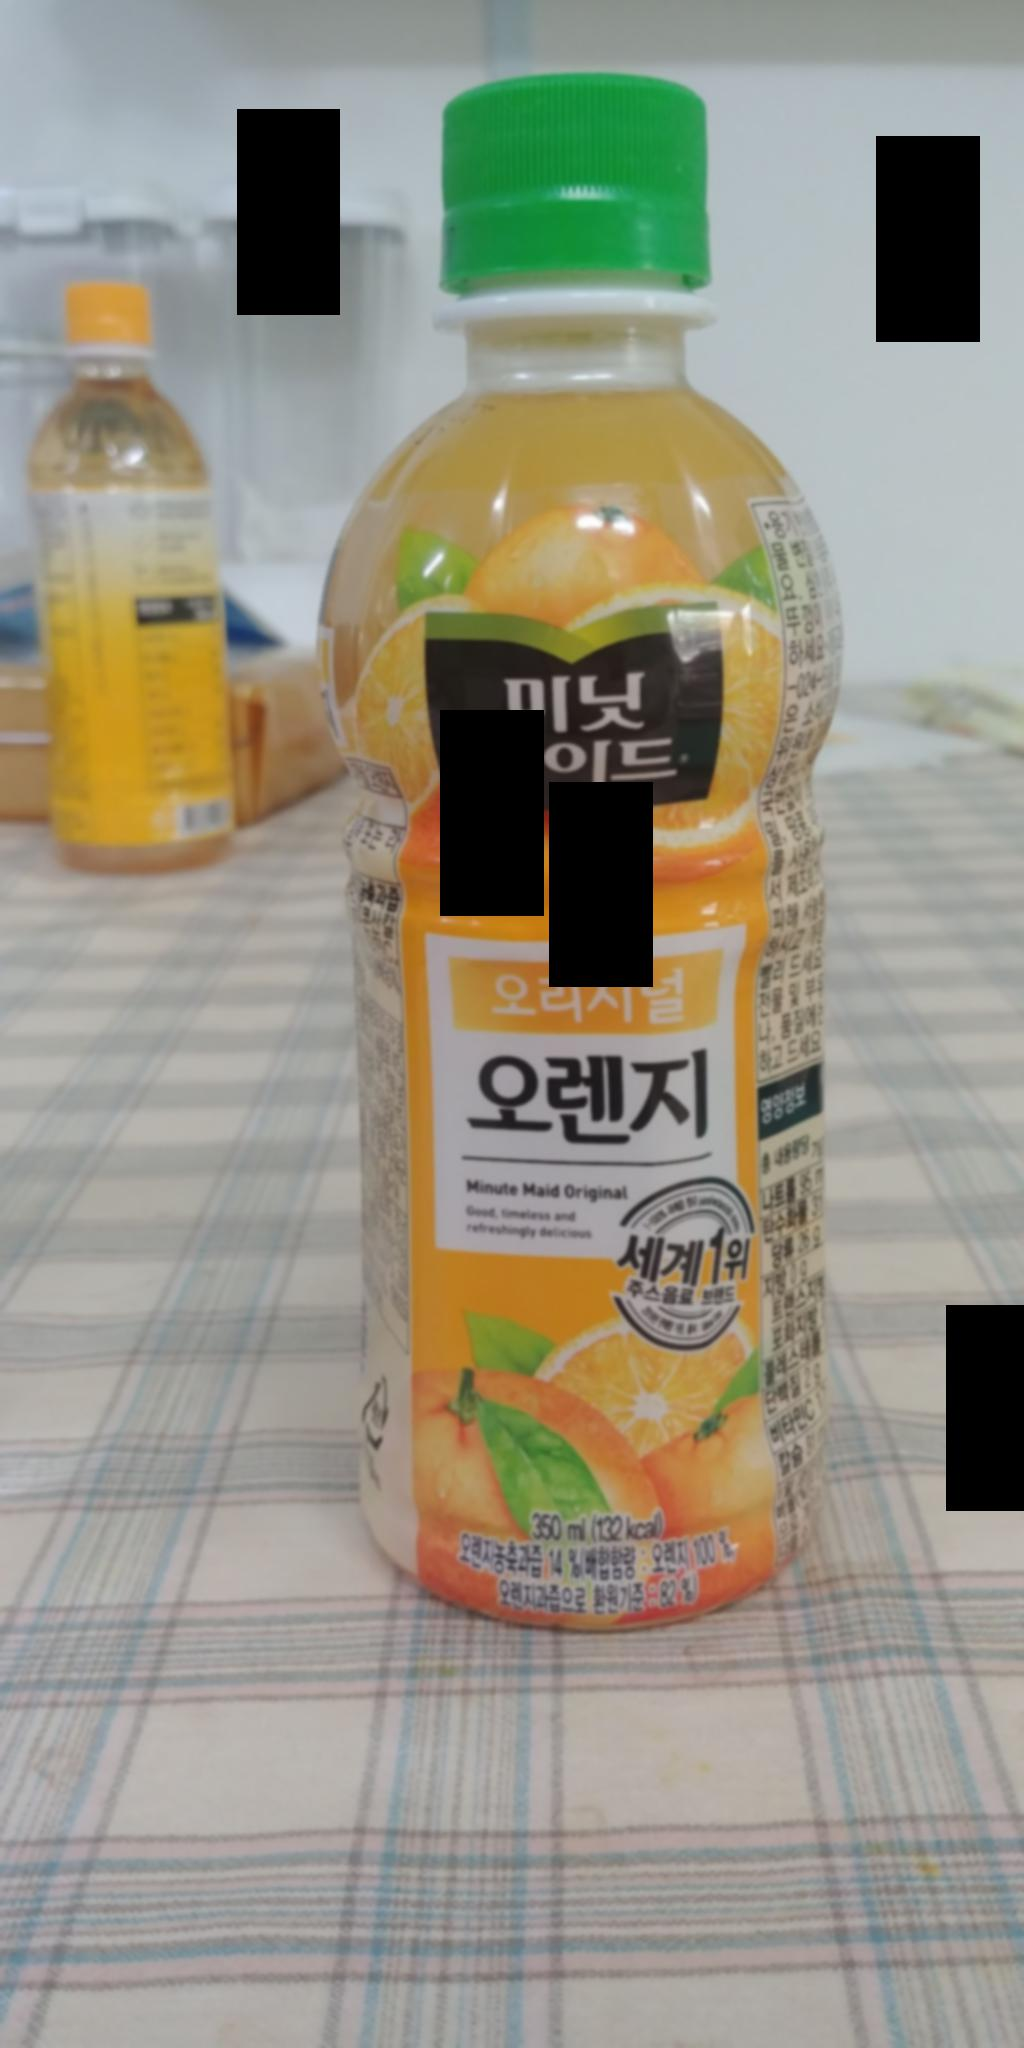minutemaid_org_orange: (311, 54, 876, 1644)
